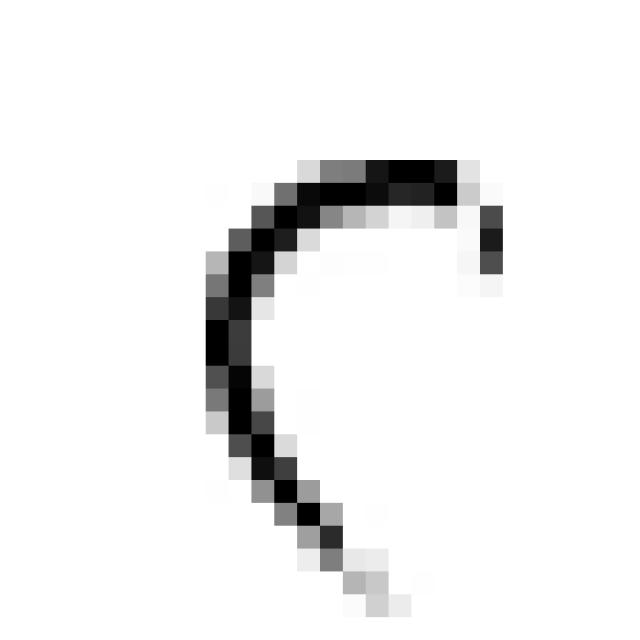2 -two-: (181, 130, 518, 626)
